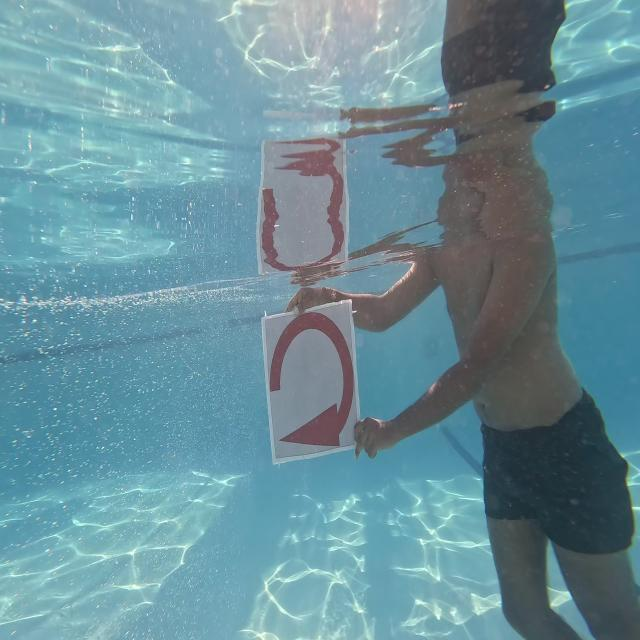red_side: (266, 303, 358, 462)
